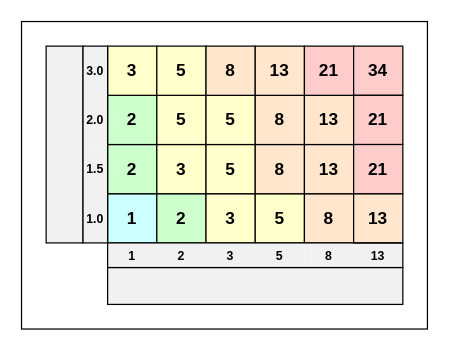
Some shapes in this 449 by 351 pixel diagram are drawn without their labels. The centre of each missing label's shape, as x and y in pixels:
サイズ: the point at 254,285
不 確 実 性: the point at 64,144
